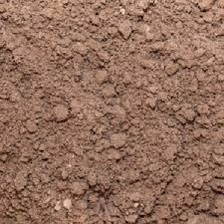sandy_soil: (5, 25, 214, 199)
